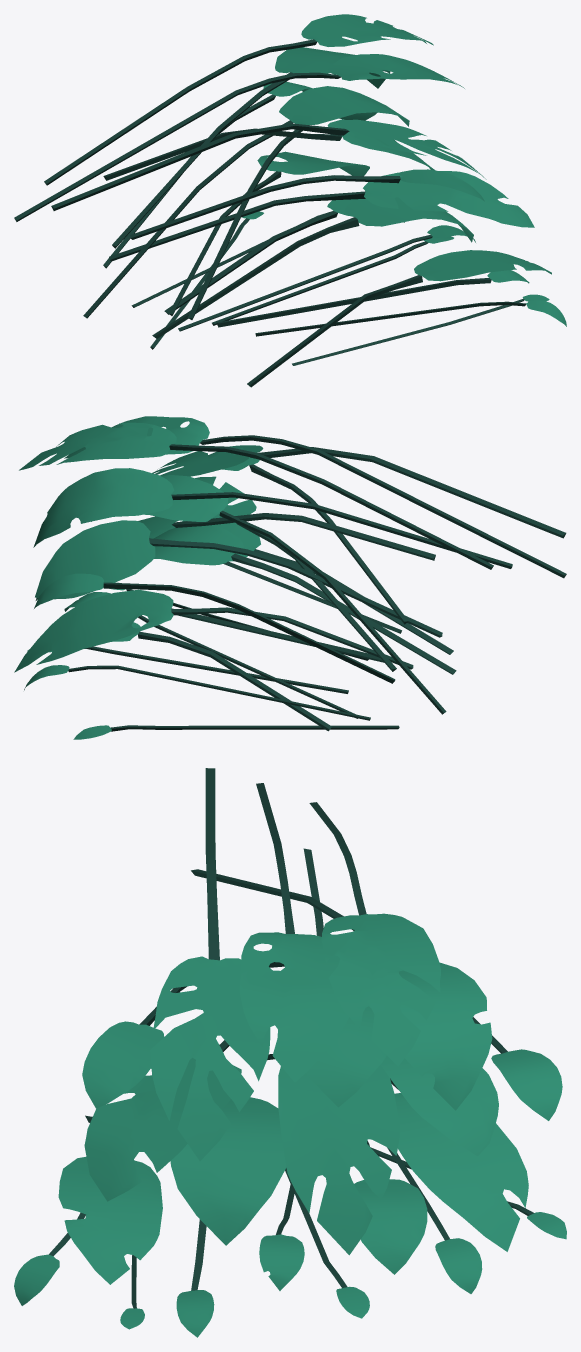
Rendered from plant_monstera_B_wall.fbx.
3 renders of one model, top to bottom at view 1: azimuth 30°, elevation 25°; view 2: azimuth 150°, elevation 25°; view 3: azimuth 270°, elevation 25°, orthographic. The views are drawn at different scales.
Visible parts, largest first — view 1: plant_monstera_B_leaf_07, plant_monstera_B_leaf_02, plant_monstera_B_leaf_01, plant_monstera_B_leaf_03, plant_monstera_B_leaf_06, plant_monstera_leaf_A_20, plant_monstera_B_leaf_10, plant_monstera_B_leaf_04, plant_monstera_B_leaf_11, plant_monstera_B_leaf_09, plant_monstera_B_leaf_05, plant_monstera_B_leaf_20 (+9 smaller); view 2: plant_monstera_B_leaf_04, plant_monstera_B_leaf_08, plant_monstera_B_leaf_09, plant_monstera_B_leaf_03, plant_monstera_B_leaf_02, plant_monstera_B_leaf_10, plant_monstera_B_leaf_06, plant_monstera_B_leaf_01, plant_monstera_leaf_A_22, plant_monstera_B_leaf_05, plant_monstera_B_leaf_07, plant_monstera_B_leaf_19 (+8 smaller); view 3: plant_monstera_B_leaf_01, plant_monstera_B_leaf_05, plant_monstera_B_leaf_03, plant_monstera_B_leaf_02, plant_monstera_B_leaf_10, plant_monstera_B_leaf_09, plant_monstera_B_leaf_04, plant_monstera_B_leaf_07, plant_monstera_leaf_A_20, plant_monstera_B_leaf_08, plant_monstera_B_leaf_11, plant_monstera_B_leaf_12 (+9 smaller).
Part boxes in pixels (left/top/right/bottom): plant_monstera_B_leaf_07: left=109, top=171, right=534, bottom=261; plant_monstera_B_leaf_02: left=14, top=54, right=464, bottom=221; plant_monstera_B_leaf_01: left=51, top=119, right=486, bottom=210; plant_monstera_B_leaf_03: left=44, top=14, right=433, bottom=185; plant_monstera_B_leaf_06: left=83, top=86, right=409, bottom=318; plant_monstera_leaf_A_20: left=247, top=250, right=551, bottom=387; plant_monstera_B_leaf_10: left=152, top=197, right=473, bottom=338; plant_monstera_B_leaf_04: left=112, top=47, right=390, bottom=248; plant_monstera_B_leaf_11: left=130, top=169, right=484, bottom=239; plant_monstera_B_leaf_09: left=168, top=151, right=369, bottom=315; plant_monstera_B_leaf_05: left=103, top=119, right=435, bottom=180; plant_monstera_B_leaf_20: left=216, top=270, right=529, bottom=327; plant_monstera_B_leaf_04: left=33, top=468, right=512, bottom=568; plant_monstera_B_leaf_08: left=35, top=520, right=442, bottom=637; plant_monstera_B_leaf_09: left=14, top=589, right=413, bottom=672; plant_monstera_B_leaf_03: left=19, top=422, right=493, bottom=569; plant_monstera_B_leaf_02: left=64, top=416, right=566, bottom=578; plant_monstera_B_leaf_10: left=154, top=525, right=456, bottom=674; plant_monstera_B_leaf_06: left=91, top=475, right=446, bottom=714; plant_monstera_B_leaf_01: left=152, top=445, right=566, bottom=538; plant_monstera_leaf_A_22: left=34, top=573, right=395, bottom=683; plant_monstera_B_leaf_05: left=35, top=513, right=435, bottom=600; plant_monstera_B_leaf_07: left=195, top=476, right=396, bottom=671; plant_monstera_B_leaf_19: left=73, top=725, right=399, bottom=739; plant_monstera_B_leaf_01: left=150, top=768, right=270, bottom=1160; plant_monstera_B_leaf_05: left=278, top=848, right=399, bottom=1255; plant_monstera_B_leaf_03: left=309, top=802, right=440, bottom=1066; plant_monstera_B_leaf_02: left=239, top=783, right=348, bottom=1082; plant_monstera_B_leaf_10: left=170, top=1097, right=286, bottom=1245; plant_monstera_B_leaf_09: left=267, top=1054, right=528, bottom=1251; plant_monstera_B_leaf_04: left=191, top=869, right=492, bottom=1110; plant_monstera_B_leaf_07: left=84, top=1040, right=241, bottom=1201; plant_monstera_leaf_A_20: left=58, top=1115, right=162, bottom=1284; plant_monstera_B_leaf_08: left=380, top=1056, right=498, bottom=1156; plant_monstera_B_leaf_11: left=82, top=962, right=284, bottom=1108; plant_monstera_B_leaf_12: left=354, top=1141, right=427, bottom=1274.
Bounding box in the file's own units: 468 × 228 × 335.
